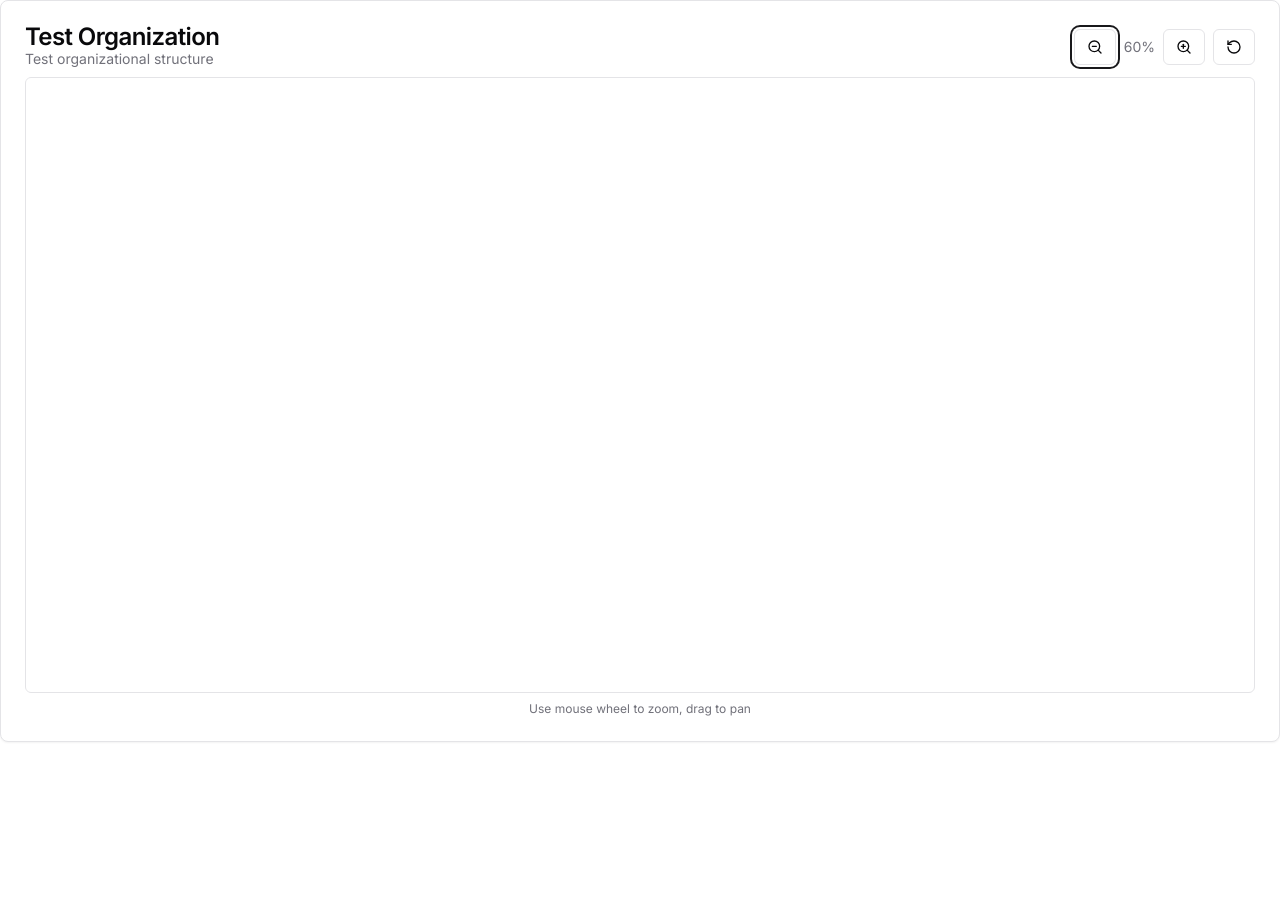
Scenario: OrgChartViewer › Zoom functionality › disables zoom out button at minimum zoom
Earlier steps of the test are not shown.
Click the button named "Zoom out". click: x=1095, y=47
box: left=1074, top=29, right=1116, bottom=65
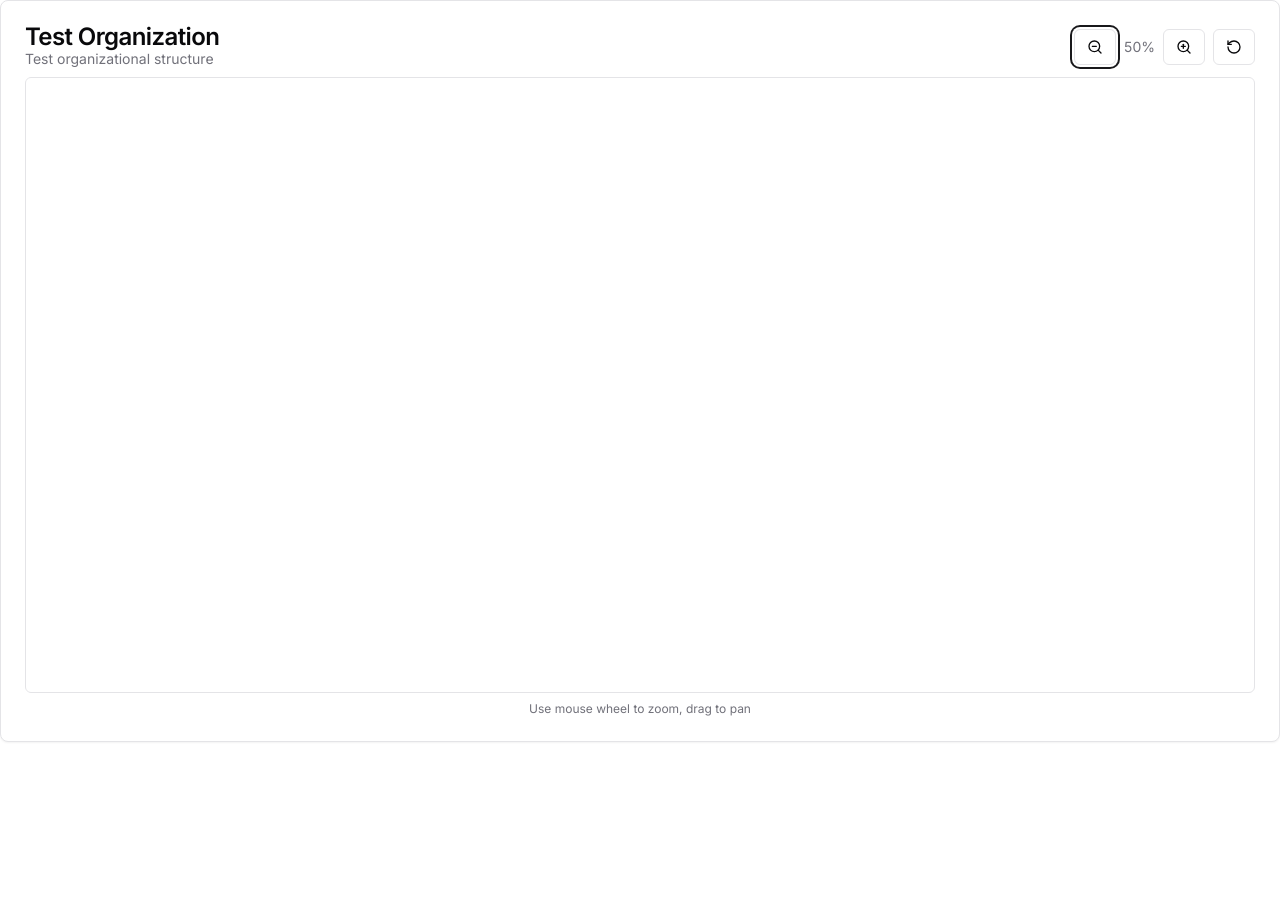
Click the button named "Zoom out". click: x=1095, y=47
box: left=1074, top=29, right=1116, bottom=65
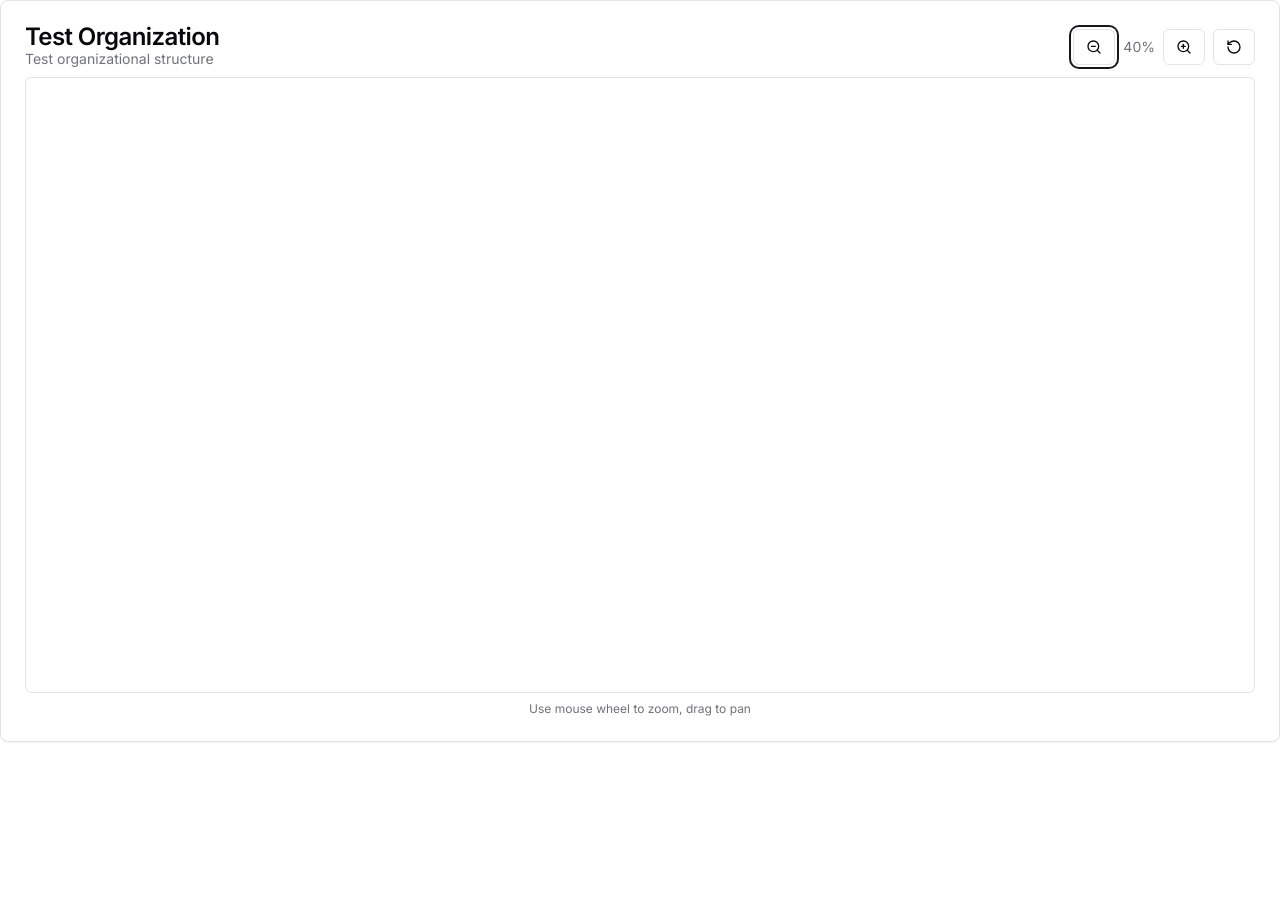
Click the button named "Zoom out". click: x=1094, y=47
box: left=1073, top=29, right=1115, bottom=65
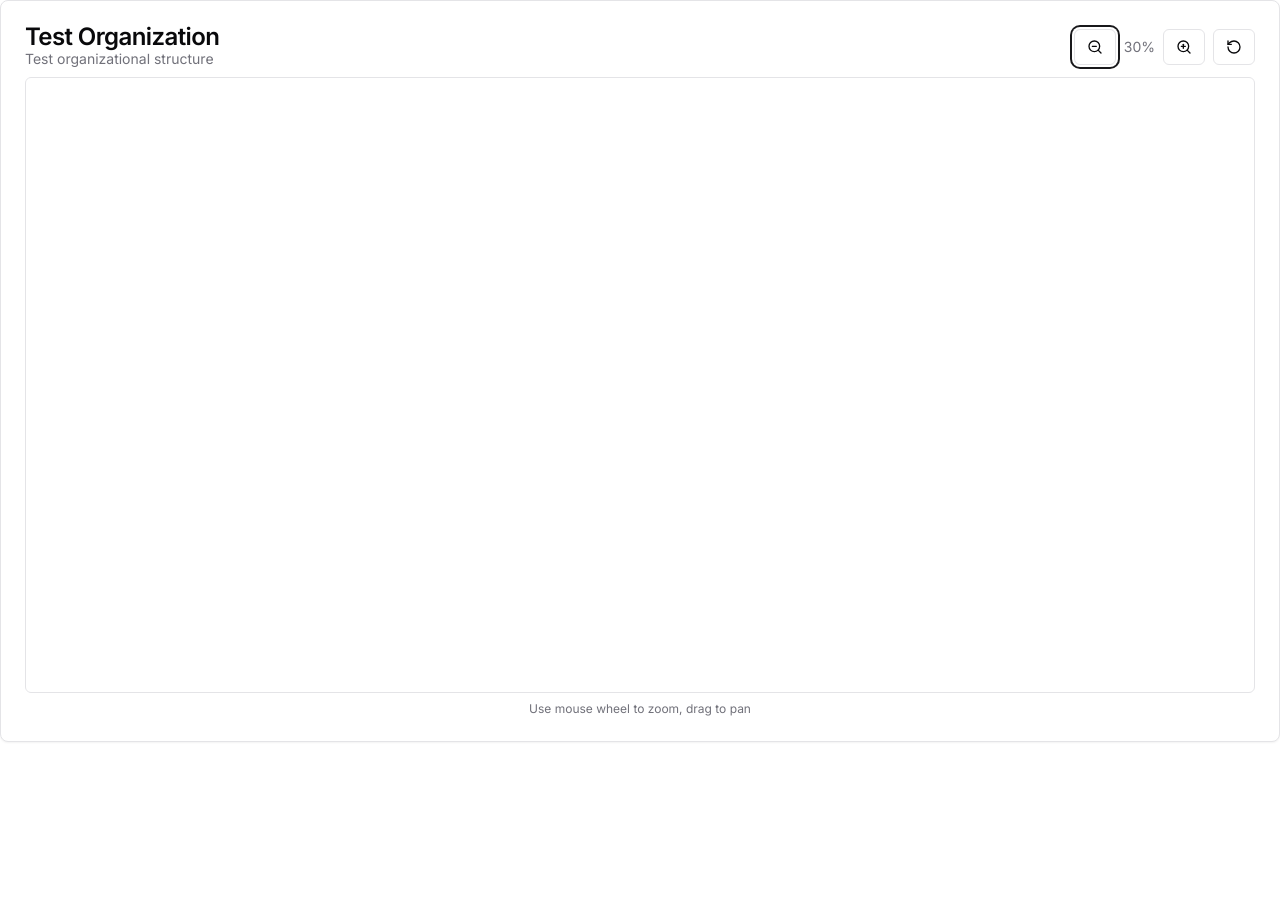
Click the button named "Zoom out". click: x=1095, y=47
box: left=1074, top=29, right=1116, bottom=65
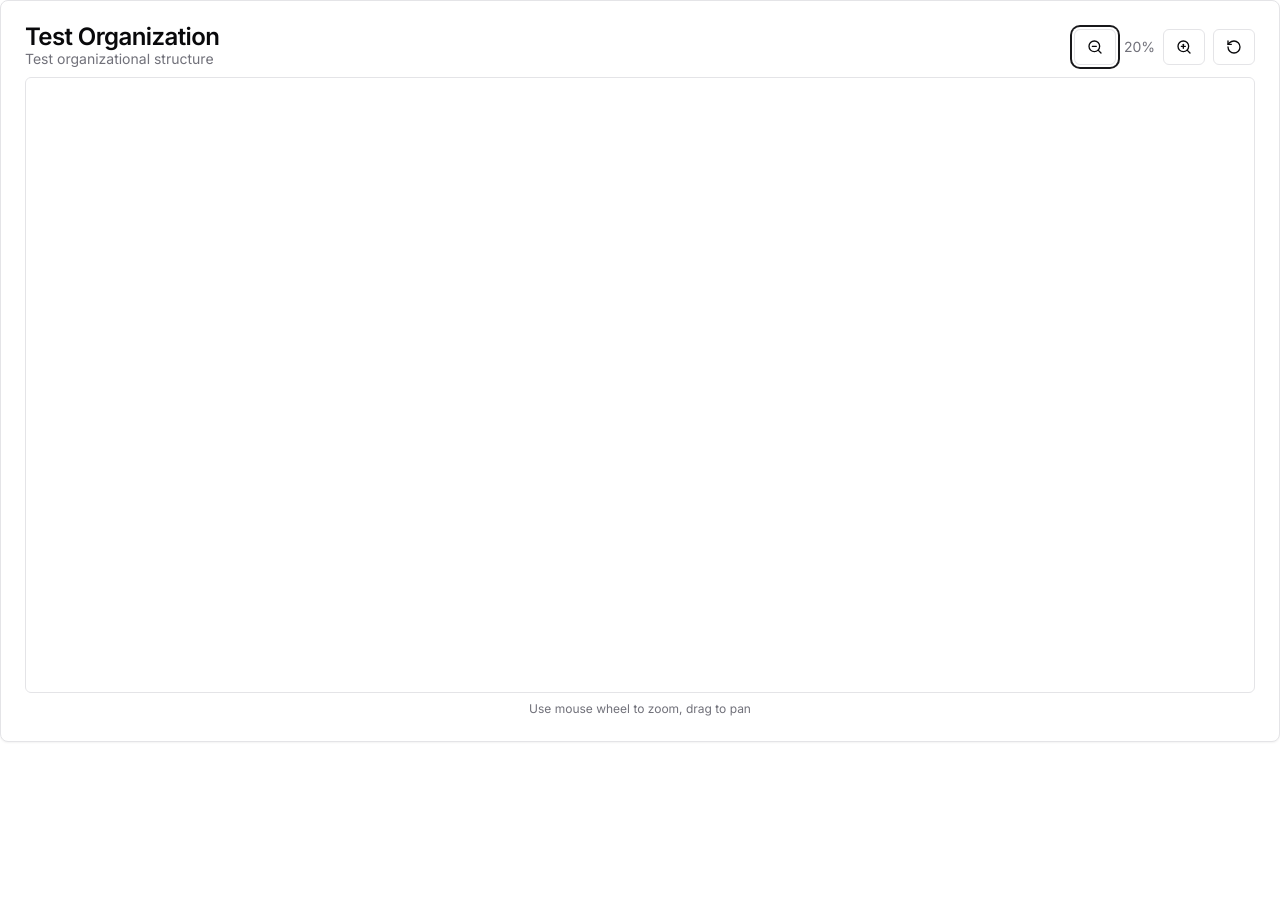
Click the button named "Zoom out". click: x=1095, y=47
box: left=1074, top=29, right=1116, bottom=65
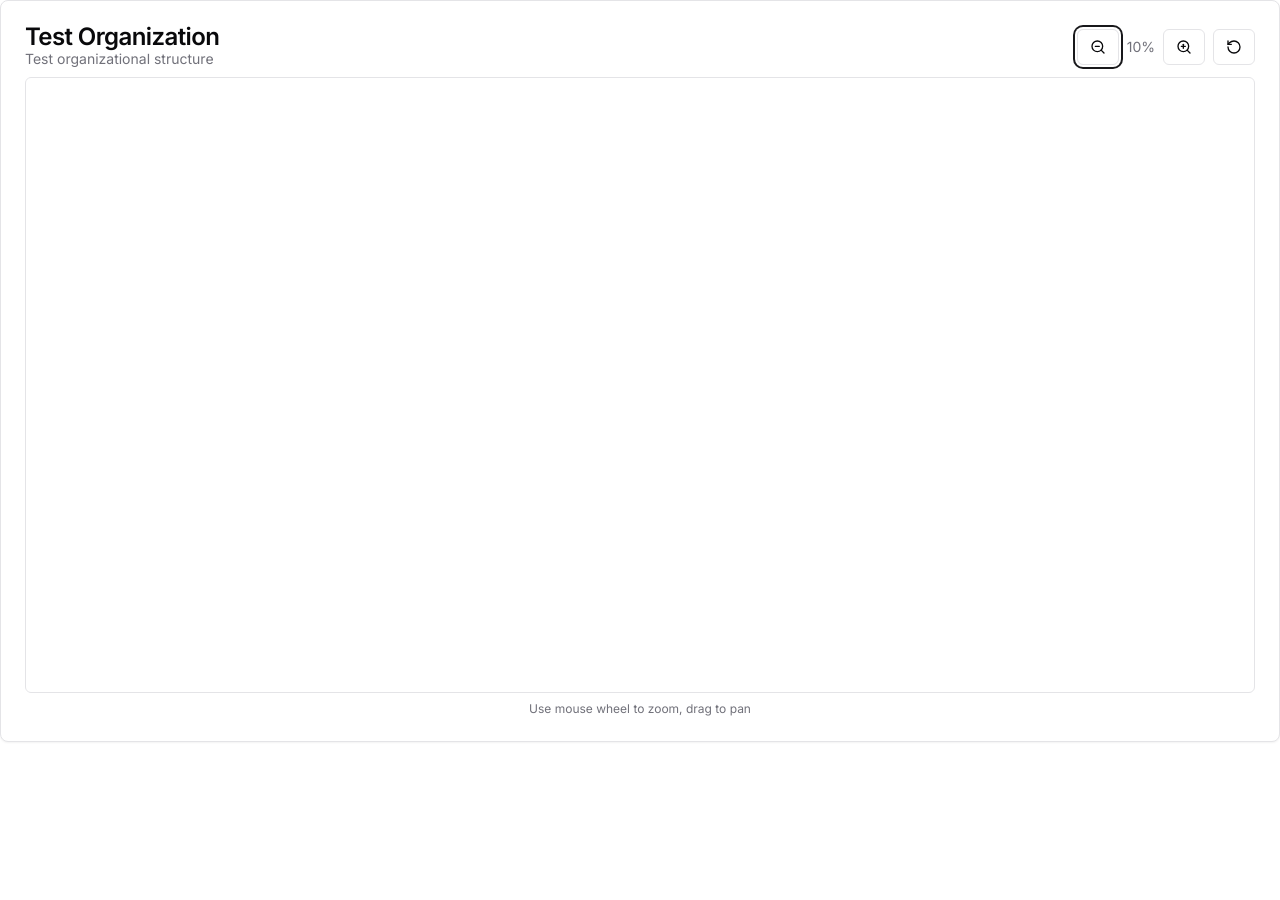
Click the button named "Zoom out". click: x=1098, y=47
box: left=1077, top=29, right=1119, bottom=65
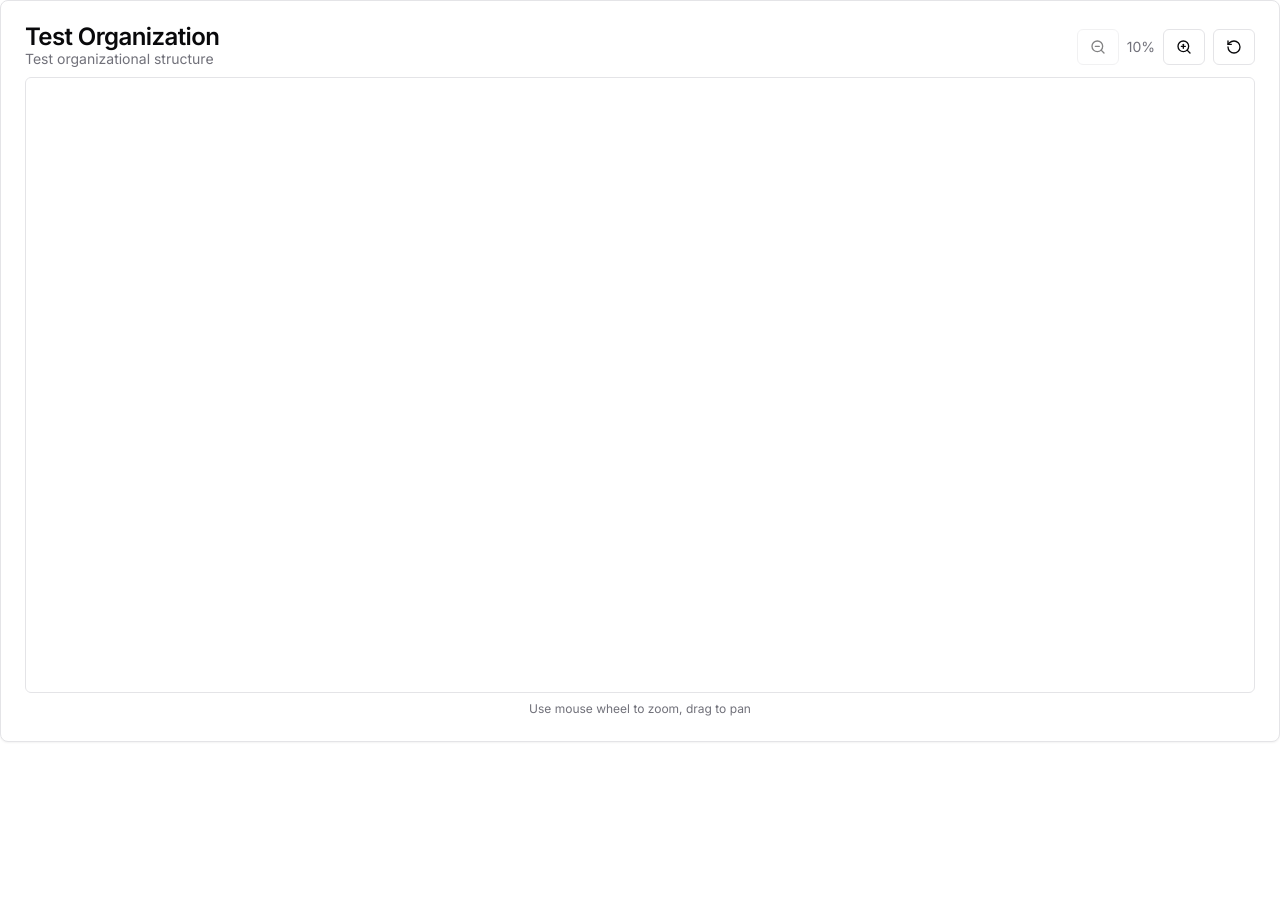
Check: the button named "Zoom out" is disabled, box left=1077, top=29, right=1119, bottom=65
